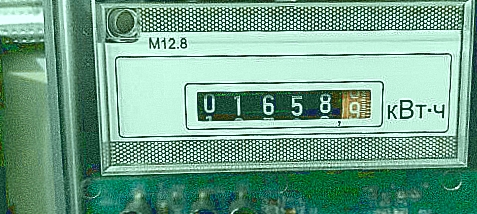0: (202, 91, 215, 114)
1: (232, 94, 243, 116)
5: (289, 93, 304, 116)
6: (260, 93, 275, 115)
8: (317, 91, 332, 113)
9: (345, 99, 360, 120)
screen: (177, 71, 391, 137)
